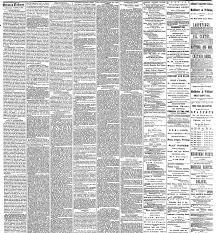Printing industry: (4, 4, 216, 233)
